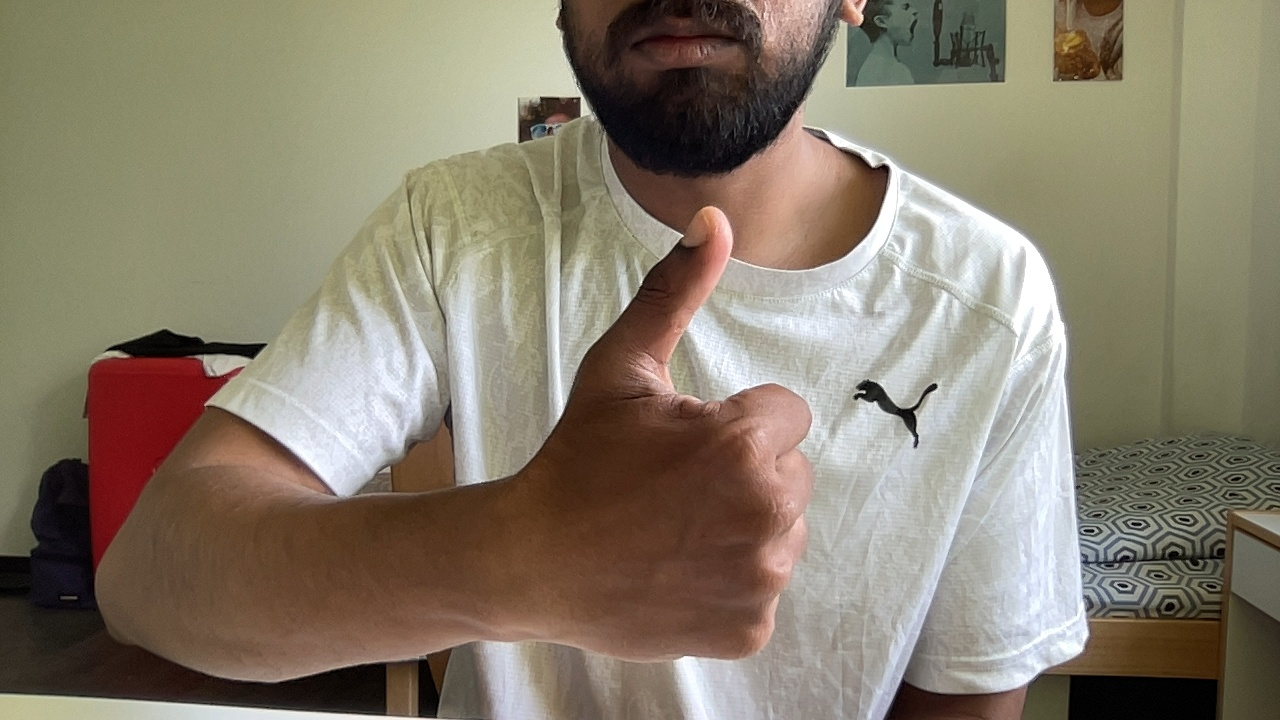ThumbsUp: (554, 205, 814, 661)
